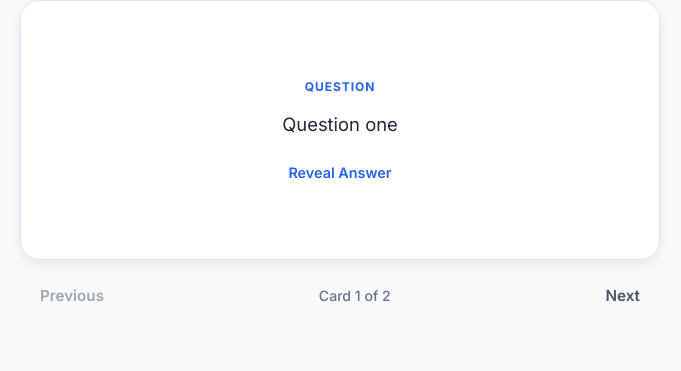
Test case: FlashcardDeck › flips in both directions and starts the next card on its question side
The image size is (681, 371).
Click the button with aria-label "Show answer for Question one".
click(340, 130)  # box [53, 33, 627, 227]
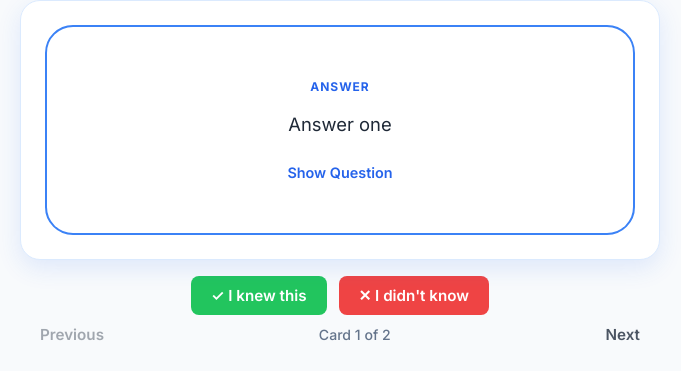
Check: the element with class "flashcard--revealed" is shown
Click the button with aria-label "Show question for Question one".
click(340, 130)  # box [53, 33, 627, 227]
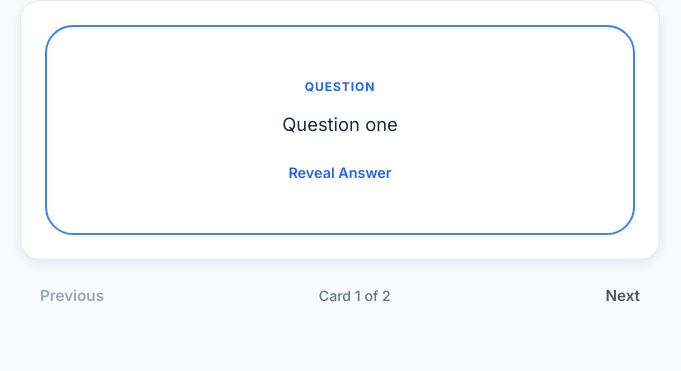
Click the button with aria-label "Show answer for Question one".
click(340, 130)  # box [53, 33, 627, 227]
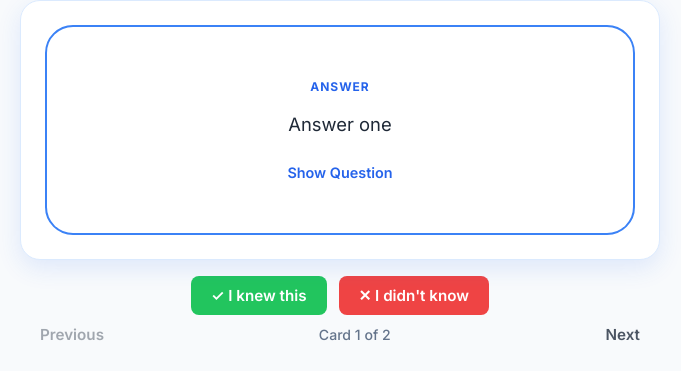
Click the button "Next".
click(623, 334)  # box [586, 315, 660, 354]
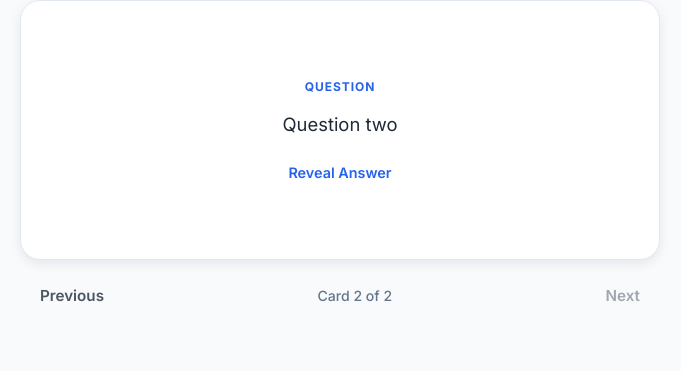
Check: the text "Question two" is shown, box [282, 110, 397, 140]
Check: the element with class "flashcard--revealed" is gone
Check: the button with aria-label "Show answer for Question two" is shown, box [53, 33, 627, 227]
